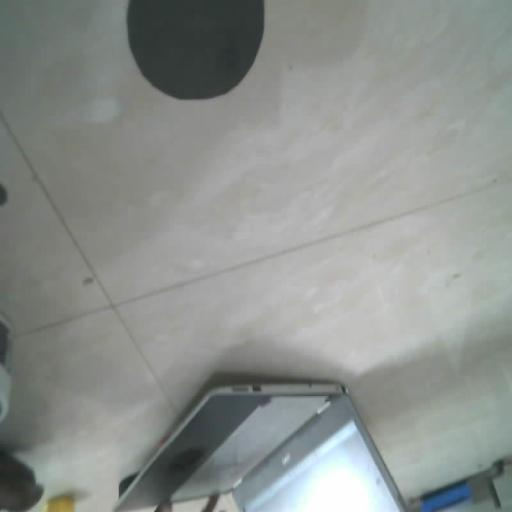pothole: (127, 0, 265, 101)
